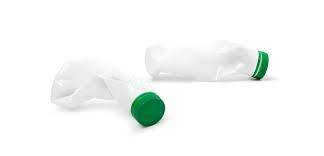plastic: (47, 62, 165, 121), (145, 40, 268, 83)
